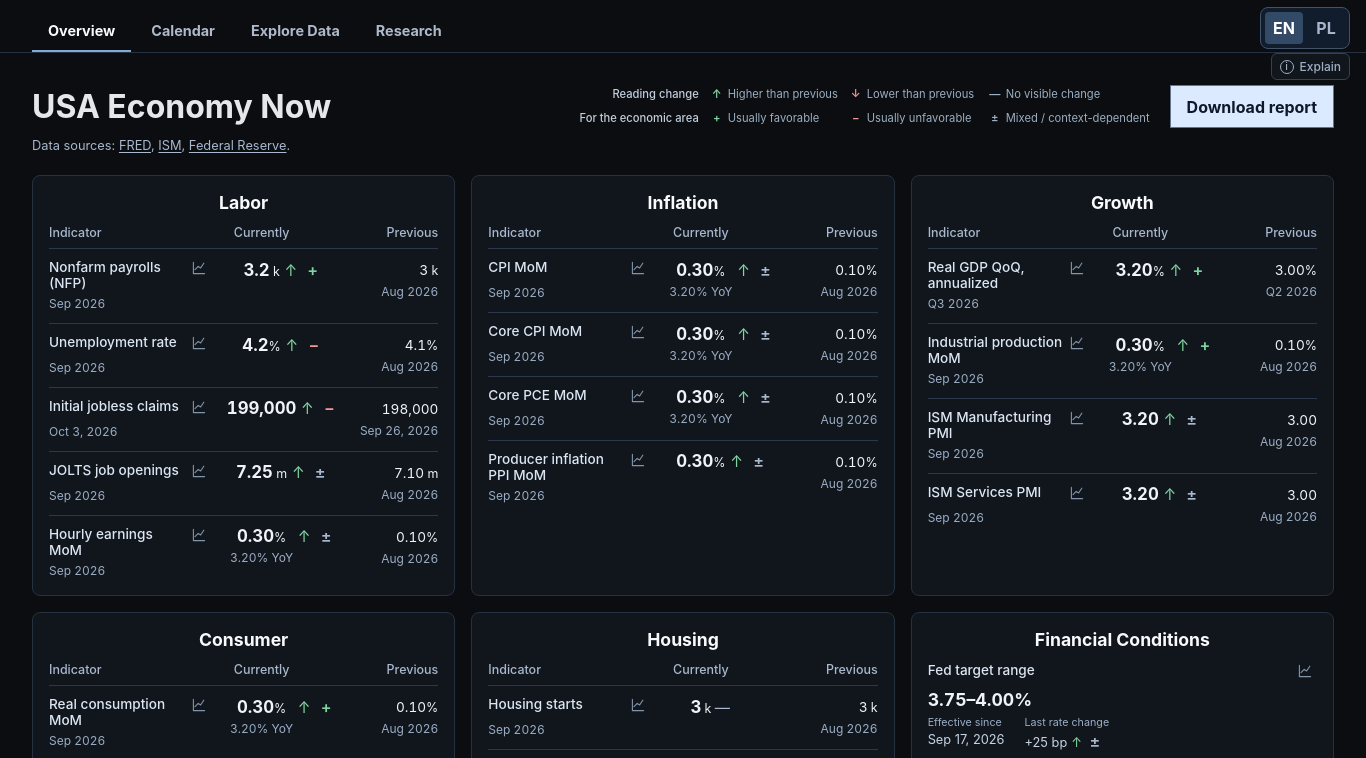
it: compact event rows expose stars and retain provenance in the report rather than an Overview disclosure
Click the button with aria-label "Polski" at (1326, 28), box [1307,12,1345,44]
(page scrolled)
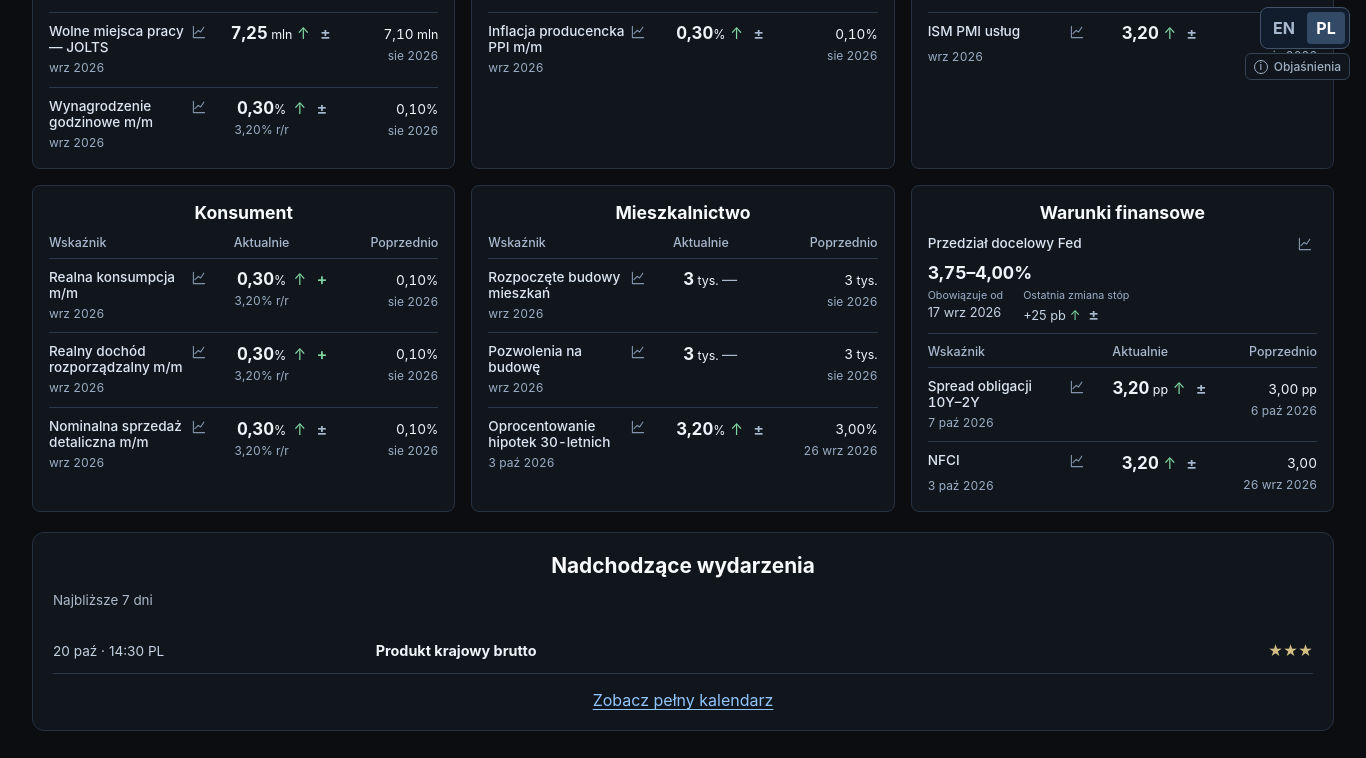
expect the picture named "Ważność 3 z 3" is shown: met, box [1268,640,1313,661]
